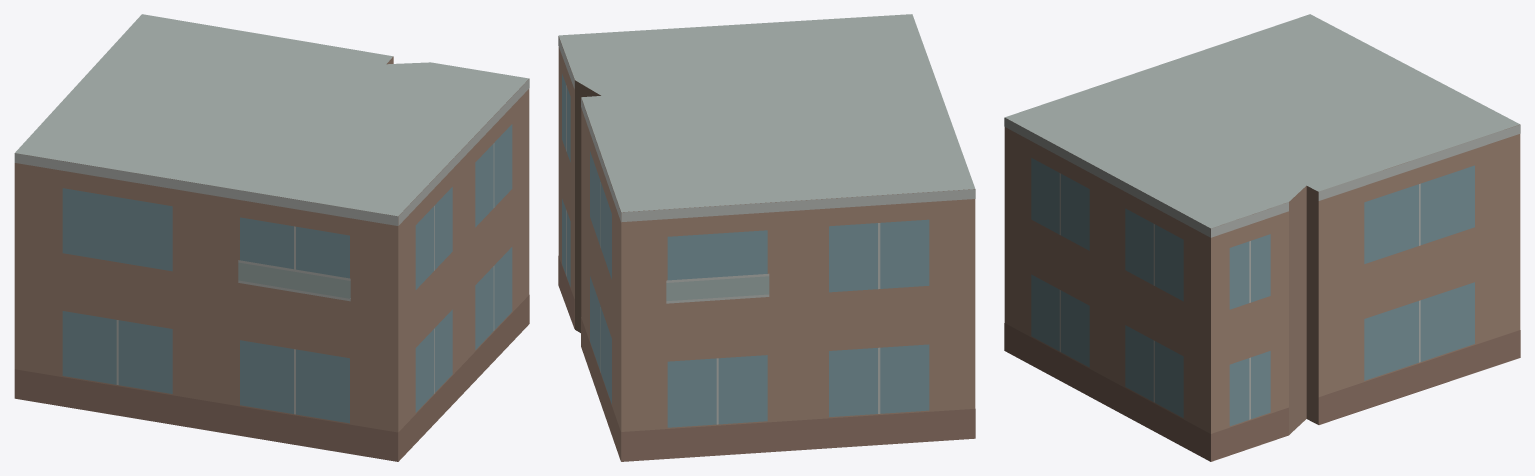
The model's file is survey-upis-32731319.glb.
3 renders of one model, left to right at view 1: azimuth 30°, elevation 25°; view 2: azimuth 150°, elevation 25°; view 3: azimuth 270°, elevation 25°, orthographic. The views are drawn at different scales.
Visible parts, largest first — view 1: survey-upis-32731319.tmp; view 2: survey-upis-32731319.tmp; view 3: survey-upis-32731319.tmp.
Boxes of the visible parts, bbox=[...] form: survey-upis-32731319.tmp: bbox=[14, 14, 529, 461]; survey-upis-32731319.tmp: bbox=[558, 14, 975, 461]; survey-upis-32731319.tmp: bbox=[1004, 14, 1520, 461].
Bounding box in the file's own units: 12.03 × 6.1 × 12.23.
